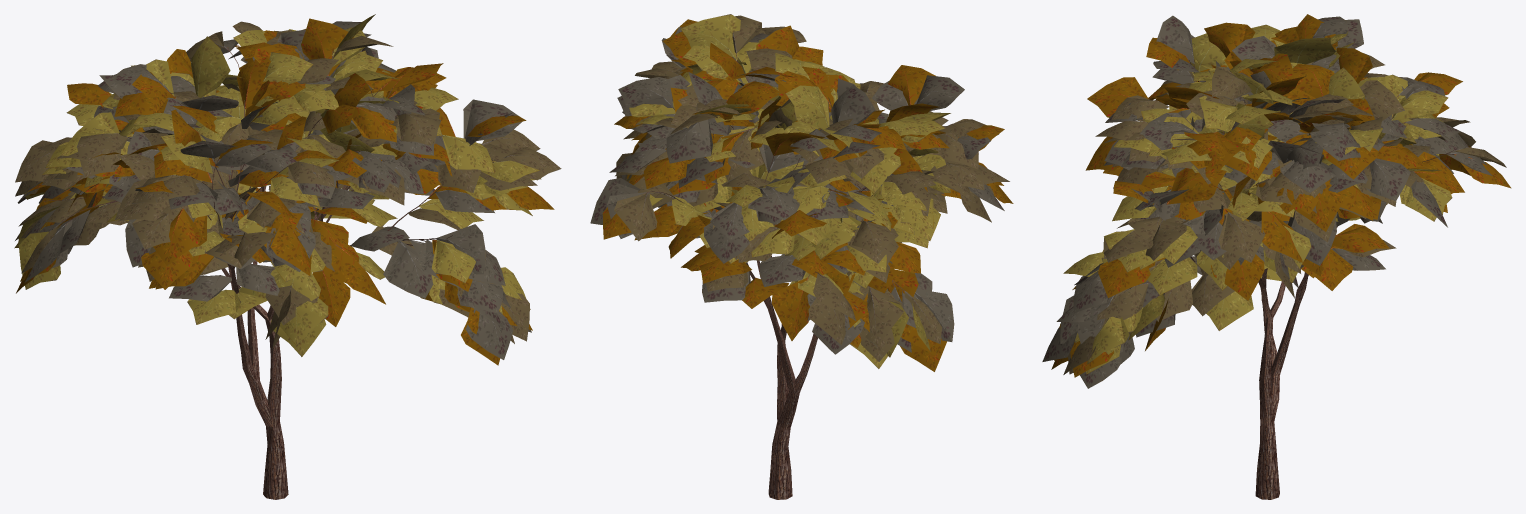
The model's file is static.glb.
3 views of the same model, side by side, from view 1: azimuth 30°, elevation 25°; view 2: azimuth 150°, elevation 25°; view 3: azimuth 270°, elevation 25° (orthographic). The views are drawn at different scales.
Parts seen in each view (by area): view 1: polySurface1SG1, Trank_bark; view 2: polySurface1SG1, Trank_bark; view 3: polySurface1SG1, Trank_bark.
Part boxes in pixels (x1,y1,x2,y2): polySurface1SG1: (14,14,561,365); Trank_bark: (43,47,493,499); polySurface1SG1: (590,14,1013,371); Trank_bark: (644,53,910,499); polySurface1SG1: (1042,14,1511,388); Trank_bark: (1148,60,1453,499).
Bounding box in the file's own units: 6.02 × 6.33 × 5.88.
2 materials, 2 textured.
